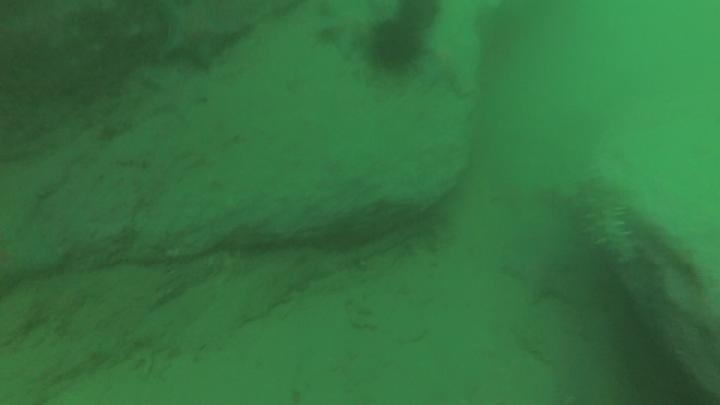echinus: (365, 17, 425, 75), (392, 1, 444, 33)
holothurian: (574, 174, 640, 267)
starfish: (156, 3, 251, 73), (416, 7, 487, 99), (498, 234, 587, 306), (140, 60, 211, 124), (315, 4, 377, 61)
